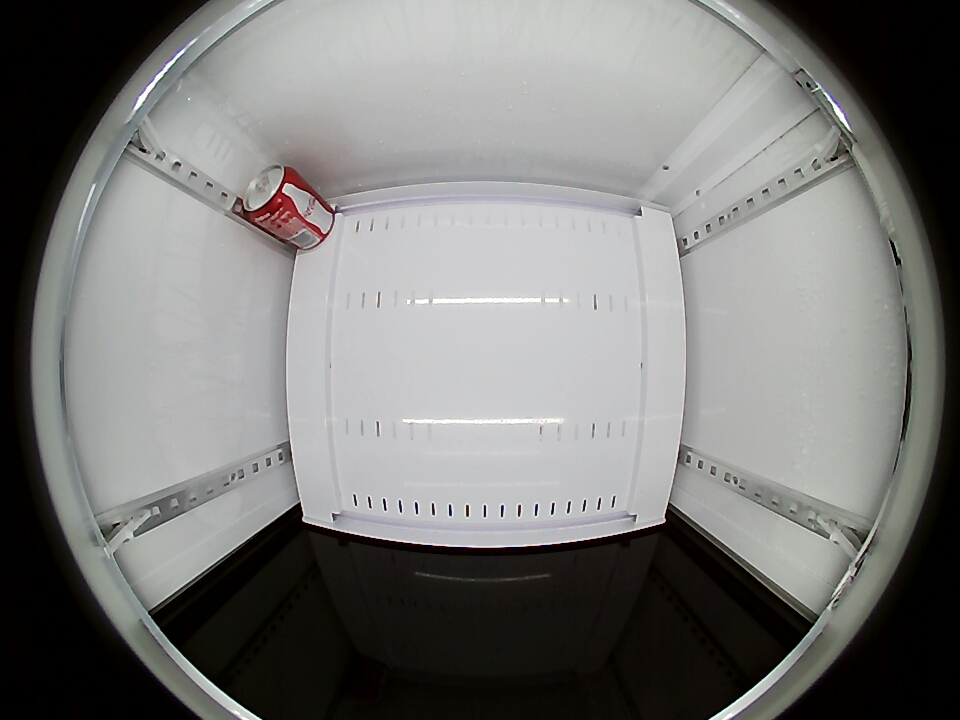kele: (240, 164, 300, 225)
